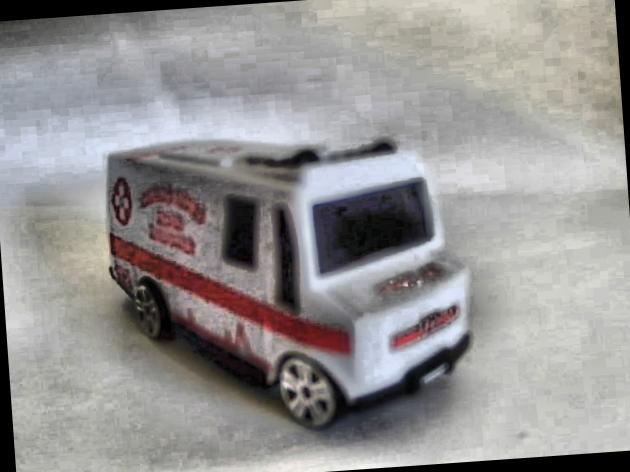ambulance: (98, 121, 477, 444)
